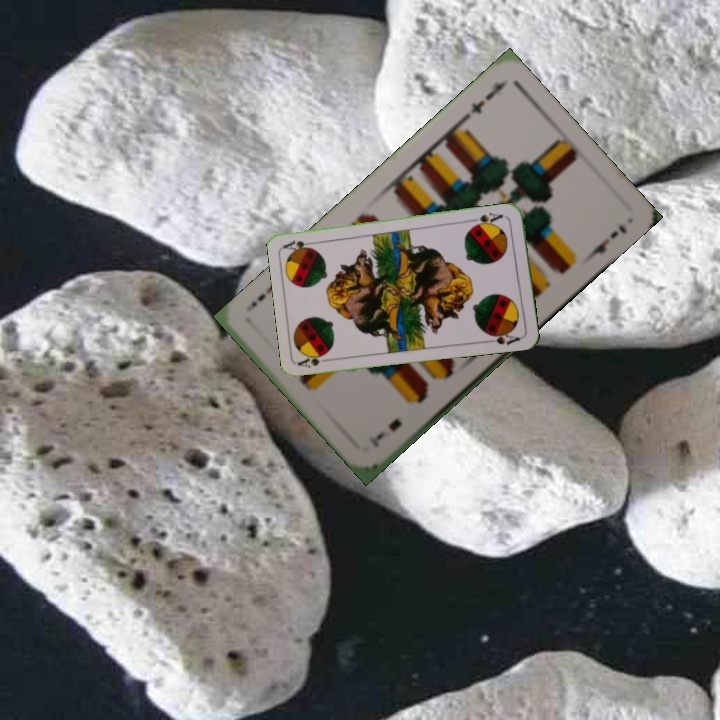E7: (458, 78, 507, 123), (365, 414, 405, 450)
SA: (295, 349, 336, 371), (468, 209, 506, 230)
